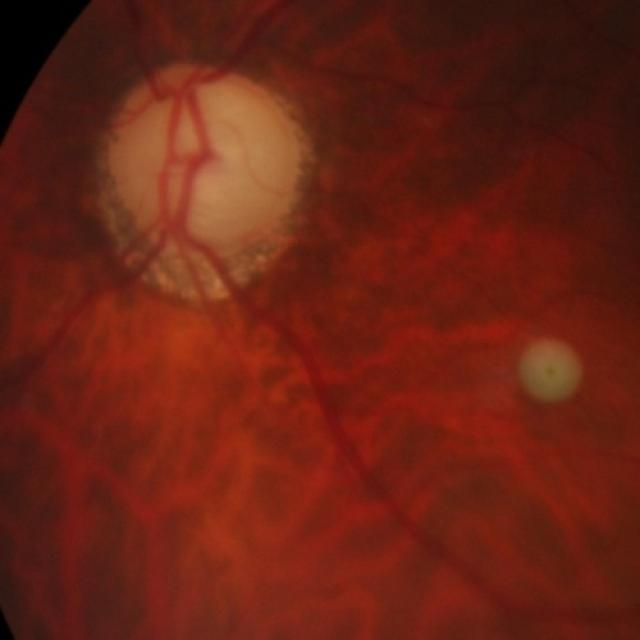OC: (169, 120, 243, 197)
OD: (114, 60, 300, 258)
